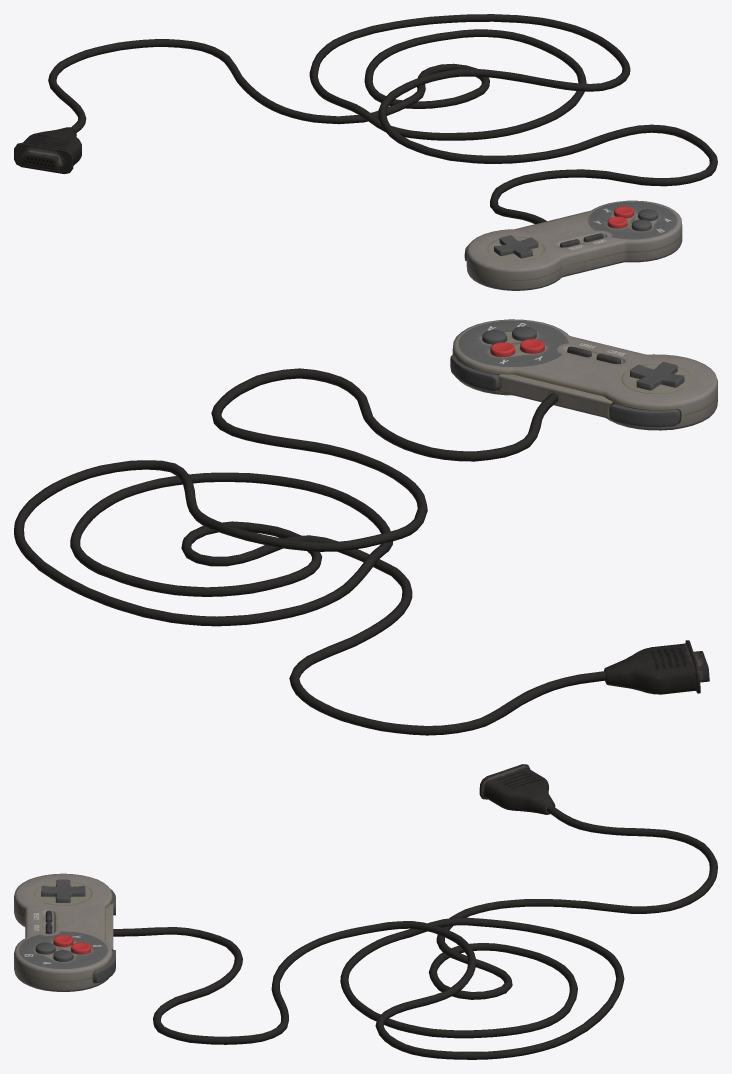
Rendered from gamepad.glb.
3 renders of one model, top to bottom at view 1: azimuth 30°, elevation 25°; view 2: azimuth 150°, elevation 25°; view 3: azimuth 270°, elevation 25°, orthographic. The views are drawn at different scales.
Visible parts, largest first — view 1: gamepad; view 2: gamepad; view 3: gamepad.
Part boxes in pixels (left/top/right/bottom): gamepad: left=14, top=14, right=717, bottom=290; gamepad: left=14, top=319, right=717, bottom=735; gamepad: left=14, top=764, right=717, bottom=1059.
Bounding box in the file's own units: 0.4042 × 0.0189 × 0.435.
1 material, 1 textured.
